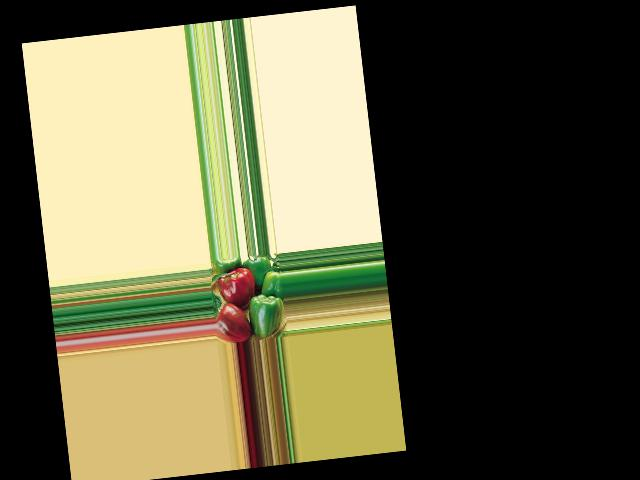bell_pepper: (214, 301, 250, 344)
